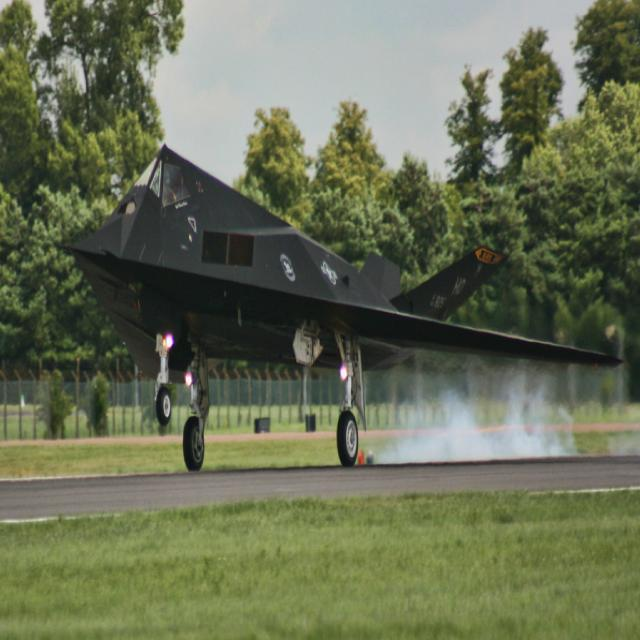MIL_Plane: (56, 142, 624, 470)
